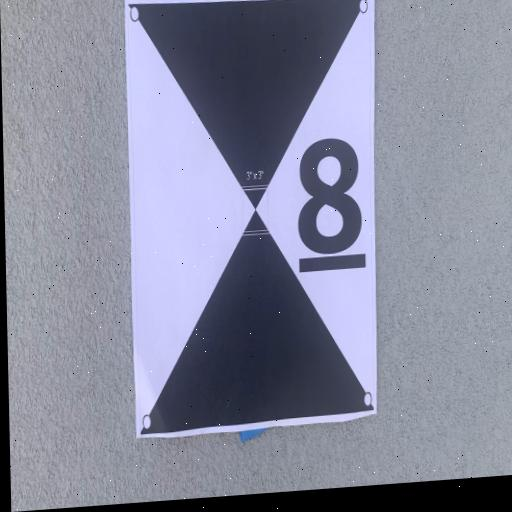target8: (125, 0, 376, 436)
